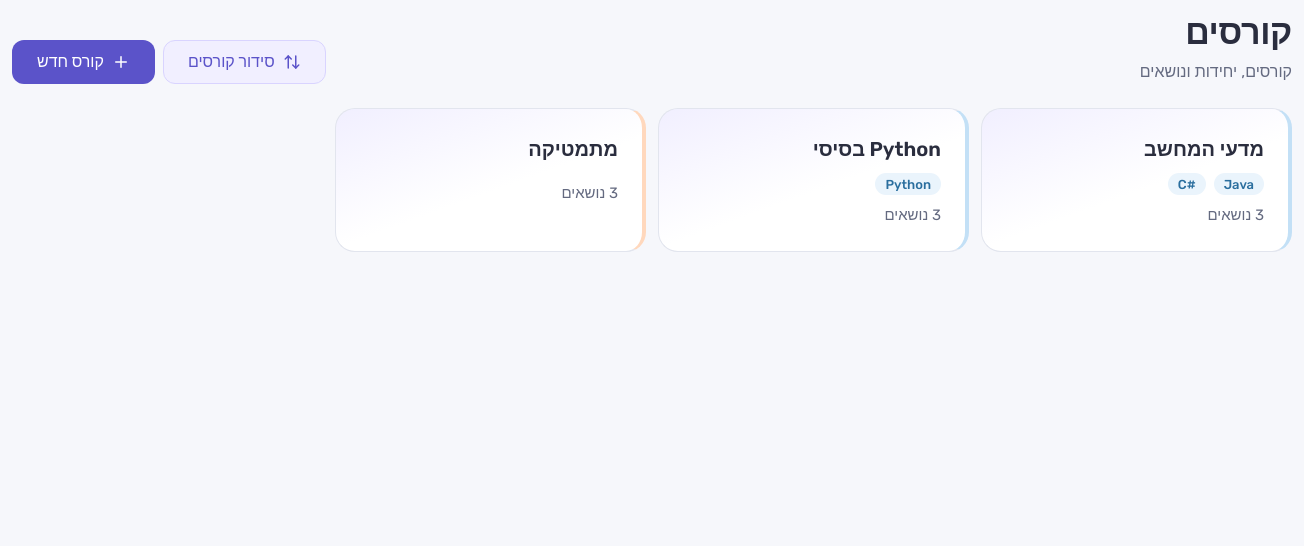
it: CoursesPage — manual ordering mode › shows an error and stays in the mode when saving fails
The image size is (1304, 546).
Expected: the link "מדעי המחשב Java  C# 3 נושאים" is shown, x1=981 y1=108 x2=1292 y2=252
Click the button "סידור קורסים" at (244, 62), box x1=163 y1=40 x2=326 y2=84
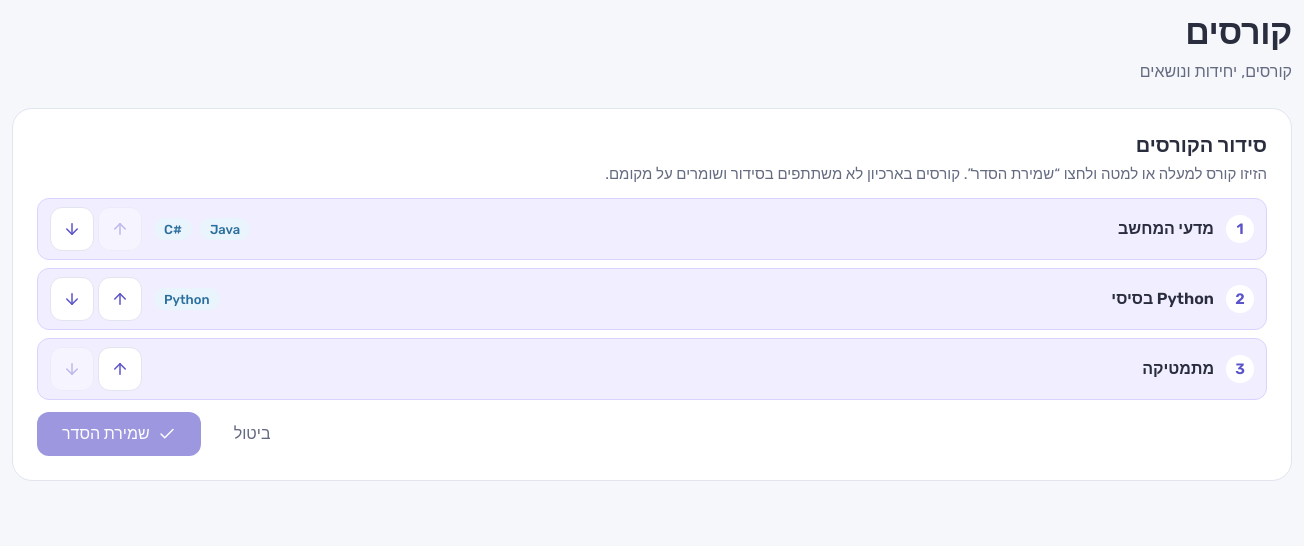
Click the button named "הזזה למטה: מדעי המחשב" at (72, 229), box x1=50 y1=207 x2=94 y2=251
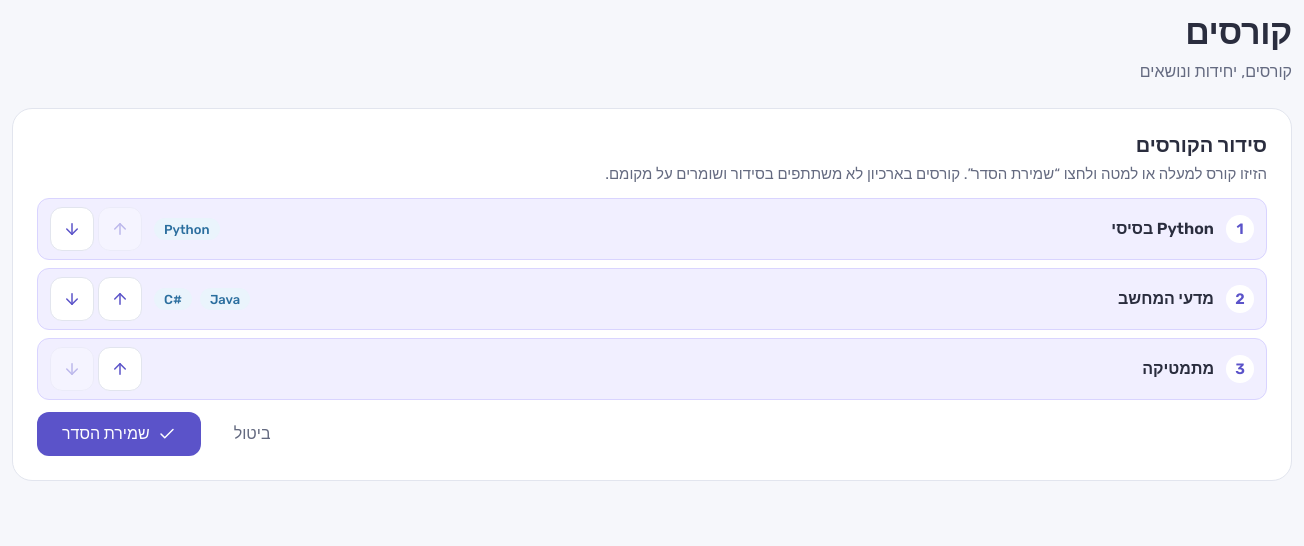
Click the button "שמירת הסדר" at (119, 434), box x1=37 y1=412 x2=201 y2=456
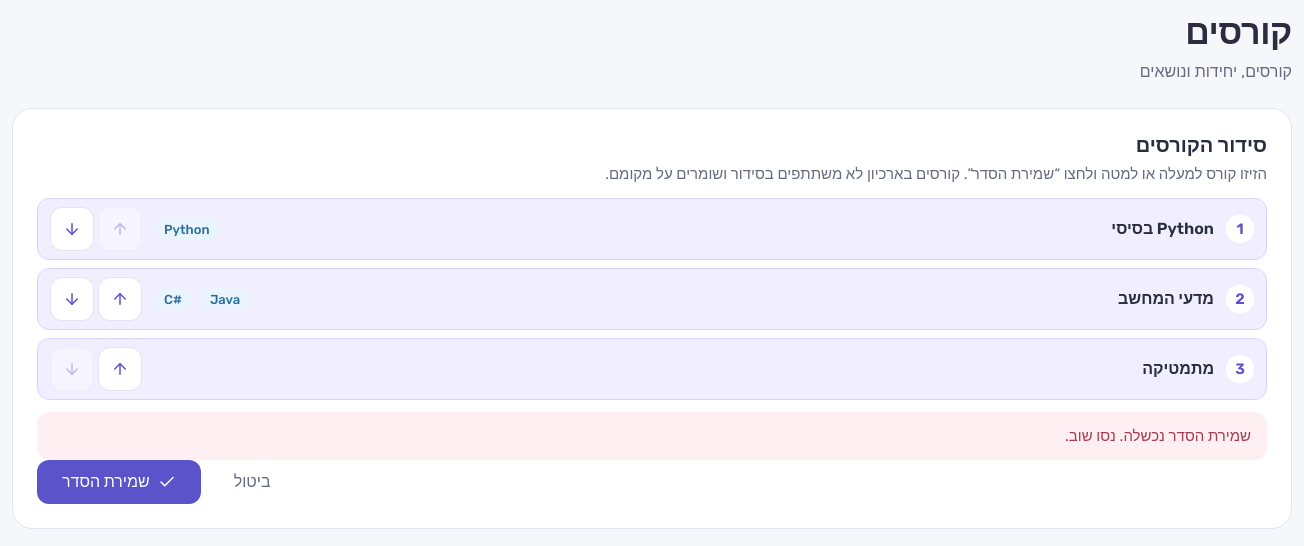
Result: the message shows "שמירת הסדר נכשלה" at x1=1065 y1=427 x2=1251 y2=445
